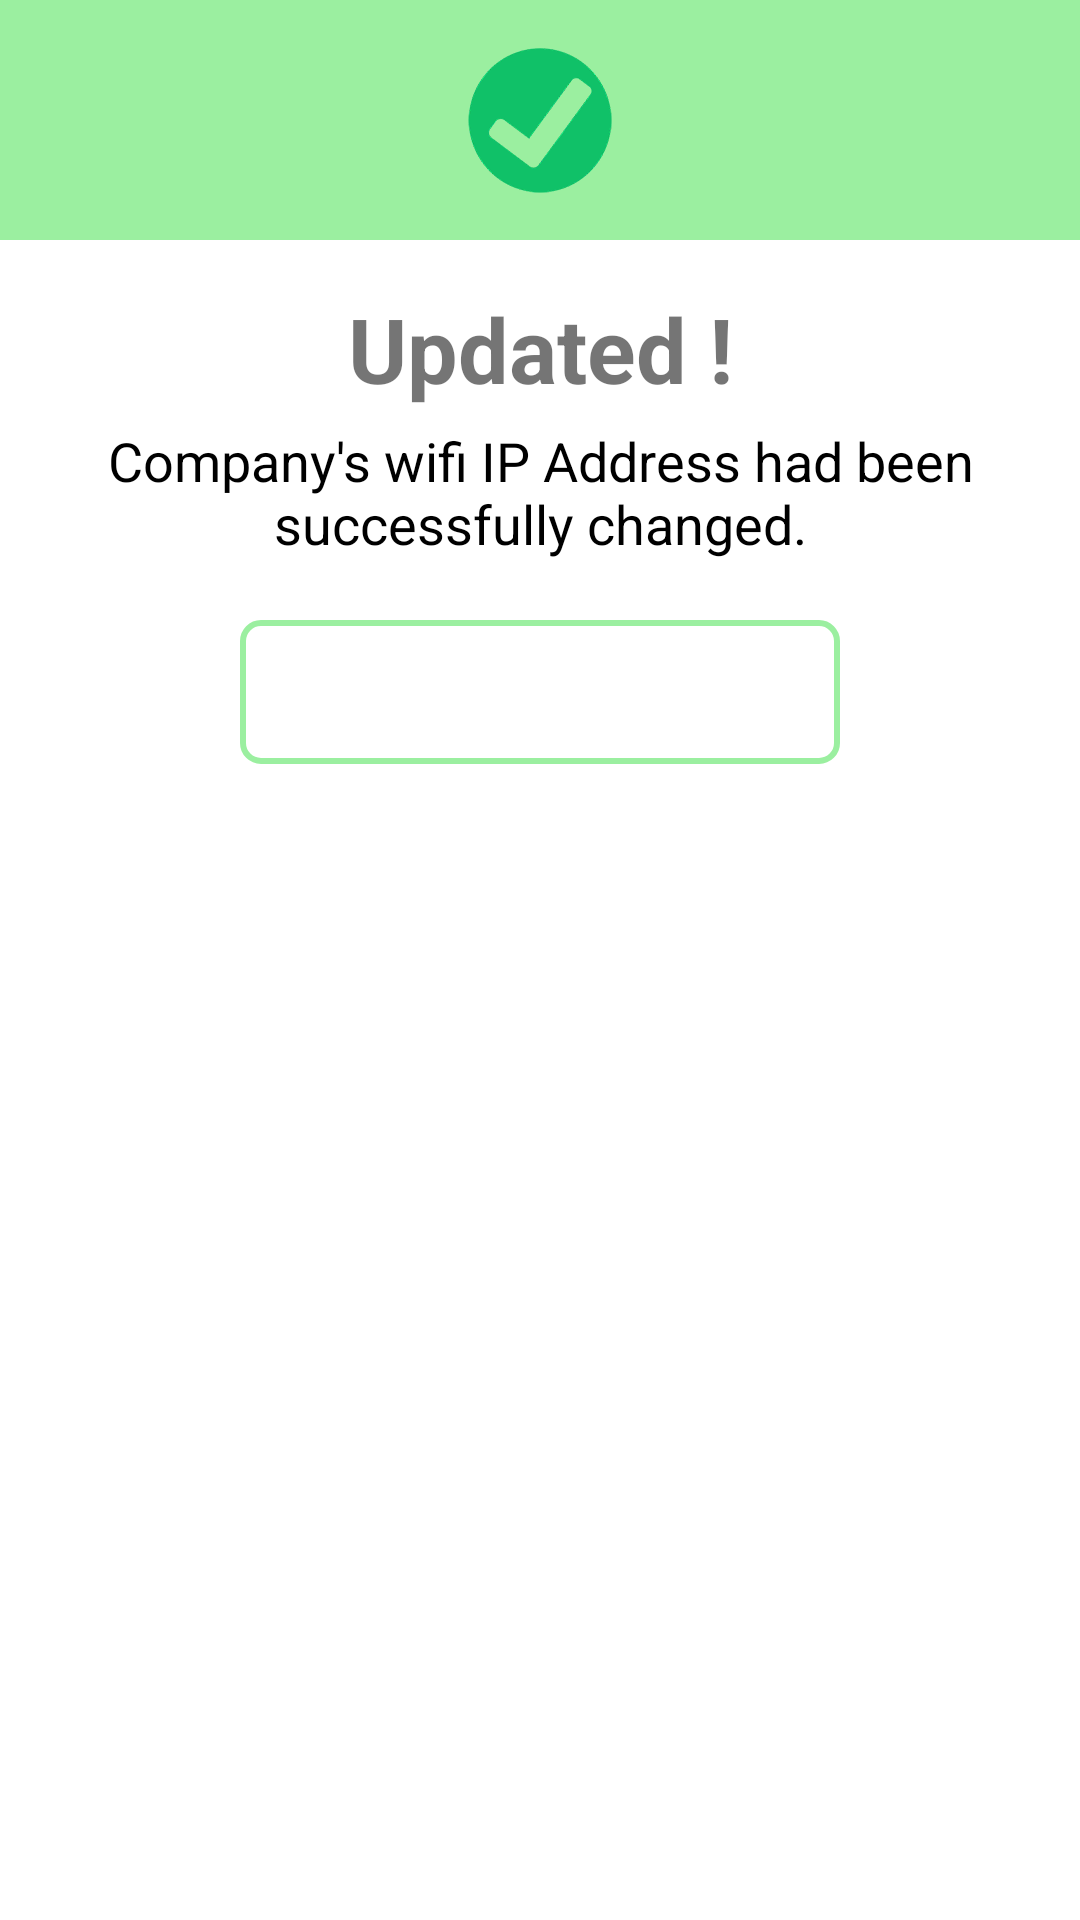

Icons on this 1080×1920 Android screen, each with its box as (x1, y1, x2, y2):
tick: (468, 48, 612, 193)
